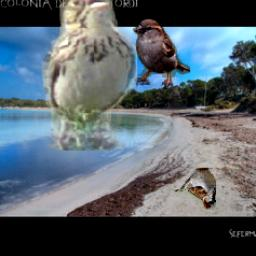Sparrow: (42, 0, 137, 151), (134, 18, 191, 90), (175, 169, 217, 211)
